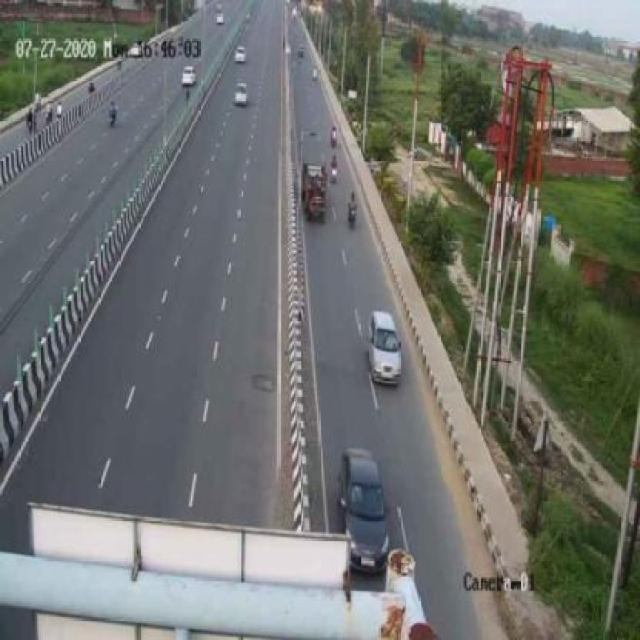car: (335, 443, 397, 569), (368, 312, 404, 383), (231, 83, 252, 112)
